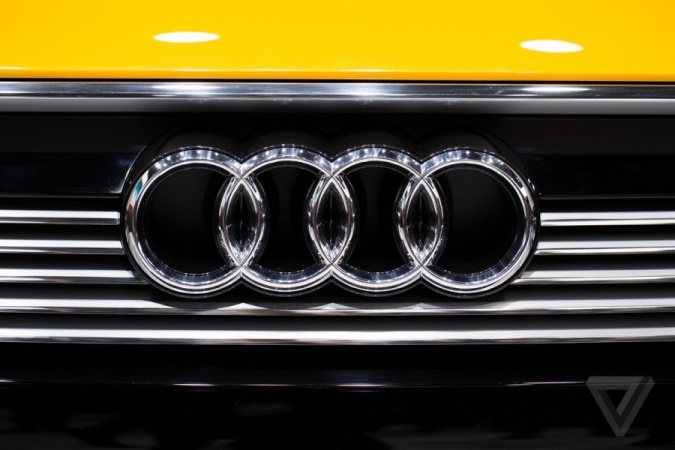audi: (109, 131, 549, 303)
